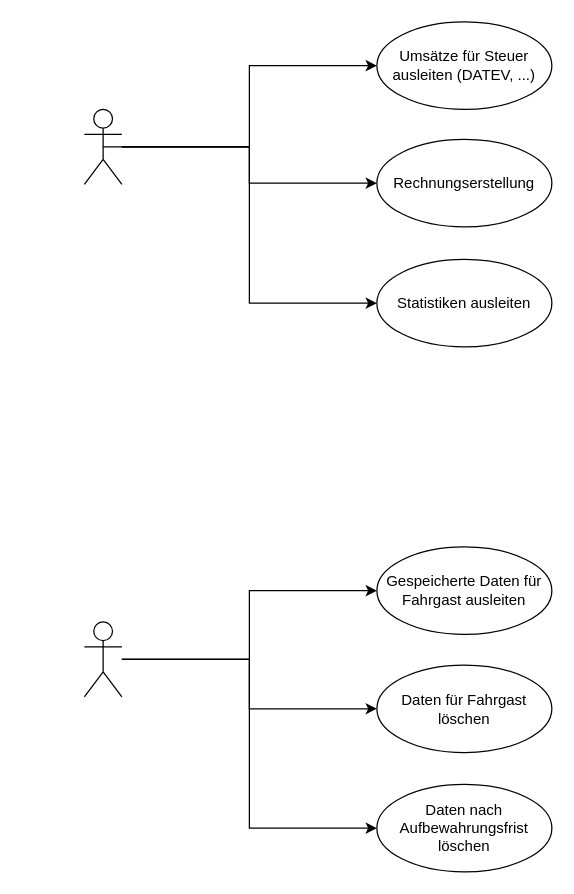
This 574x894 diagram has some shape labels left out. The shapes that lost their labels are listed below. From the top down, each one's box as (x1, y1, x2, y2) in pixels, then its label:
(83, 108, 122, 184): Buchhaltung
(83, 621, 122, 697): Datenschutzbeauftragter
